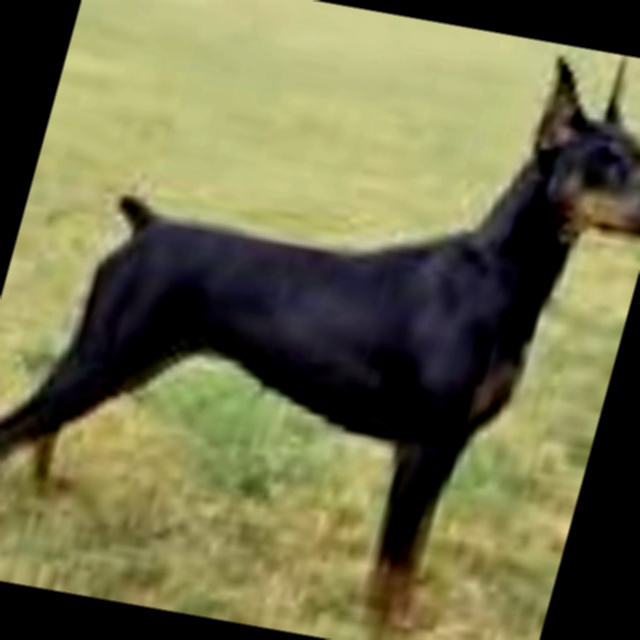dog: (0, 0, 640, 602)
